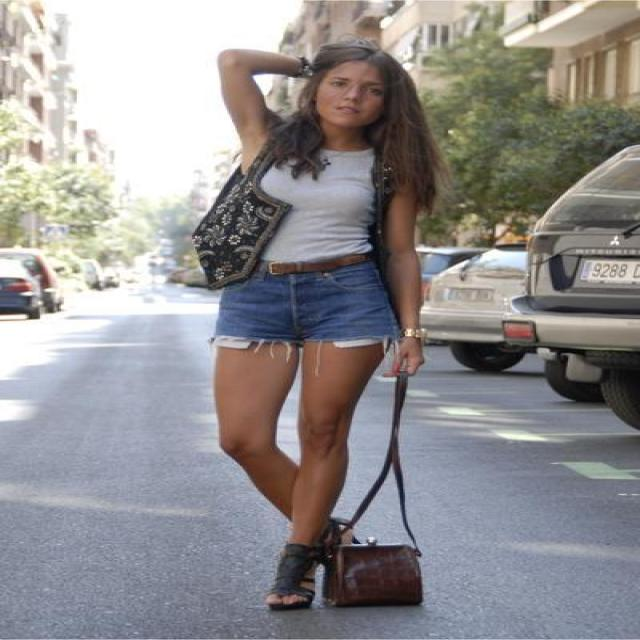bag: (323, 376, 421, 609)
jacket: (187, 148, 395, 289)
shirt: (261, 149, 373, 268)
shoe: (272, 537, 339, 610)
shorts: (216, 278, 403, 344)
